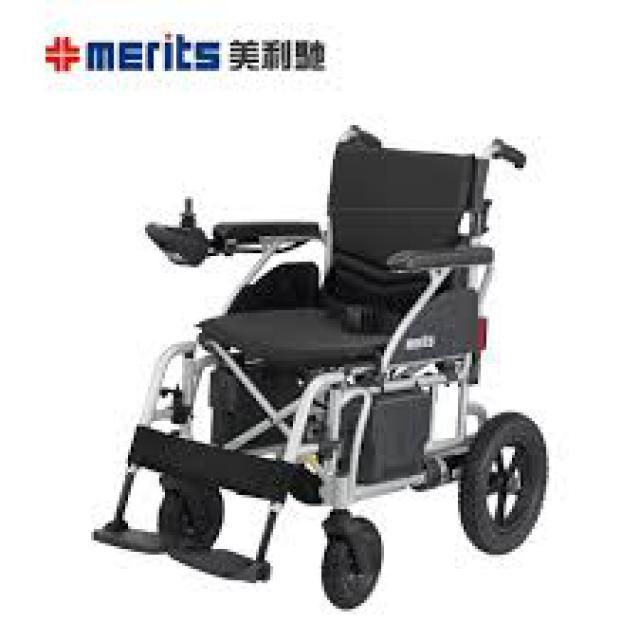wheelchair: (71, 113, 578, 638)
